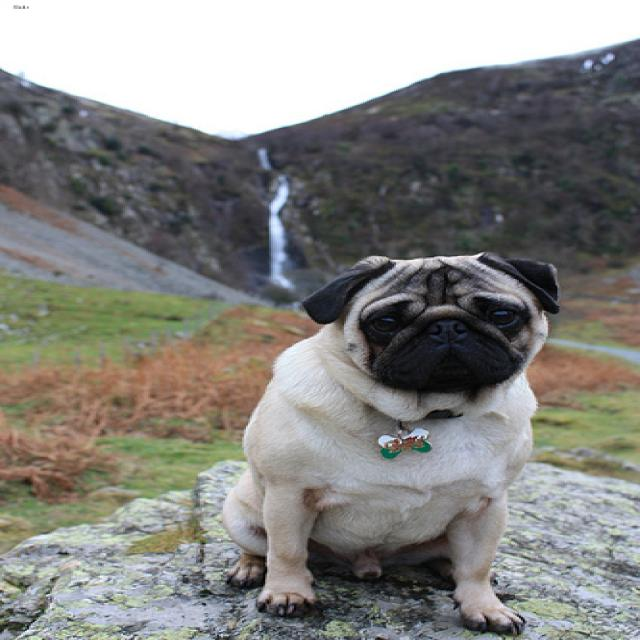dog-pug: (209, 248, 569, 637)
